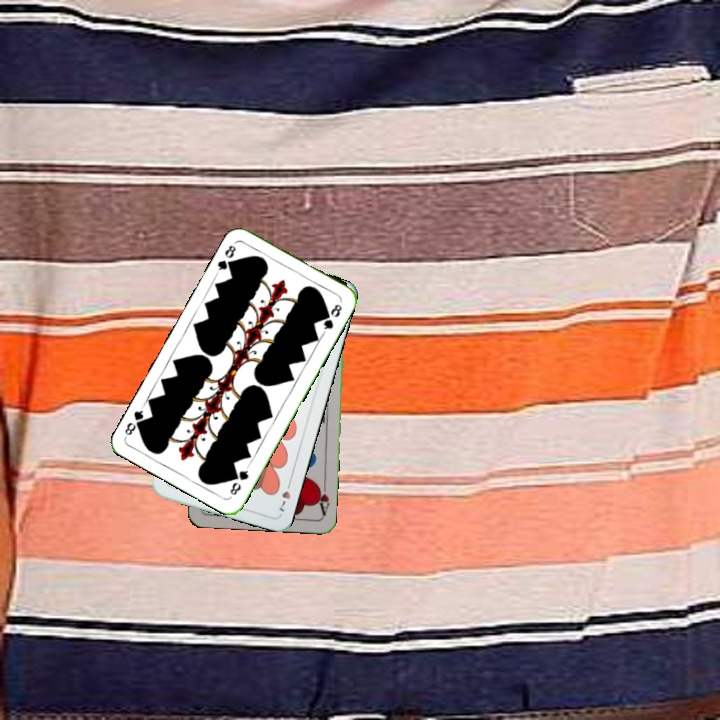G8: (226, 462, 251, 498), (213, 241, 238, 275)
H7: (274, 476, 294, 515)
HA: (313, 477, 332, 518)
